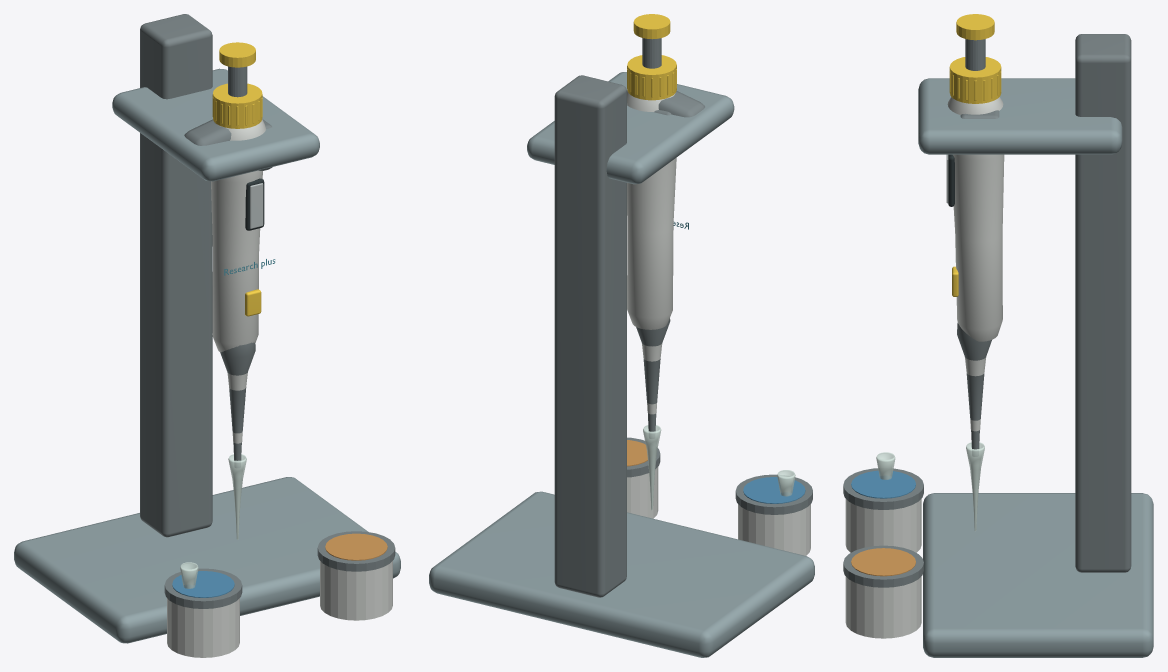
The model's file is research-plus.glb.
3 renders of one model, left to right at view 1: azimuth 30°, elevation 25°; view 2: azimuth 150°, elevation 25°; view 3: azimuth 270°, elevation 25°, orthographic. The views are drawn at different scales.
Parts seen in each view (by area): view 1: Stand_back_column, Stand_base, Stand_hook, Main_handle, Receiver_dry_vessel, Source_dry_vessel, Lower_molded_shaft, Dial_ring, Receiver_dry_floor, Receiver_rim, Source_rim, Source_dry_floor (+5 smaller); view 2: Stand_back_column, Stand_base, Main_handle, Stand_hook, Source_dry_vessel, Dial_ring, Source_rim, Lower_molded_shaft, Receiver_dry_vessel, Source_dry_floor, Plunger_button, Angled_finger_hook (+2 smaller); view 3: Stand_base, Stand_back_column, Stand_hook, Main_handle, Receiver_dry_vessel, Source_dry_vessel, Dial_ring, Lower_molded_shaft, Receiver_dry_floor, Receiver_rim, Source_rim, Source_dry_floor (+3 smaller).
Part boxes in pixels (left/top/right/bottom): Stand_back_column: left=140, top=14, right=212, bottom=537; Stand_base: left=14, top=477, right=400, bottom=643; Stand_hook: left=112, top=68, right=319, bottom=181; Main_handle: left=211, top=119, right=265, bottom=352; Receiver_dry_vessel: left=320, top=561, right=392, bottom=620; Source_dry_vessel: left=167, top=598, right=239, bottom=657; Lower_molded_shaft: left=220, top=342, right=255, bottom=467; Dial_ring: left=213, top=83, right=262, bottom=128; Receiver_dry_floor: left=325, top=533, right=387, bottom=560; Receiver_rim: left=317, top=531, right=395, bottom=571; Source_rim: left=164, top=568, right=242, bottom=608; Source_dry_floor: left=172, top=571, right=234, bottom=597; Stand_back_column: left=554, top=75, right=626, bottom=597; Stand_base: left=429, top=491, right=814, bottom=657; Main_handle: left=627, top=91, right=676, bottom=329; Stand_hook: left=527, top=72, right=734, bottom=184; Source_dry_vessel: left=738, top=504, right=810, bottom=555; Dial_ring: left=627, top=55, right=676, bottom=100; Source_rim: left=735, top=474, right=812, bottom=514; Lower_molded_shaft: left=636, top=318, right=670, bottom=438; Receiver_dry_vessel: left=627, top=467, right=658, bottom=518; Source_dry_floor: left=743, top=477, right=805, bottom=503; Plunger_button: left=633, top=14, right=670, bottom=39; Angled_finger_hook: left=658, top=91, right=704, bottom=117; Stand_base: left=923, top=493, right=1153, bottom=657; Stand_back_column: left=1075, top=34, right=1131, bottom=572; Stand_hook: left=918, top=78, right=1122, bottom=154; Main_handle: left=947, top=97, right=1004, bottom=341; Receiver_dry_vessel: left=845, top=576, right=921, bottom=638; Source_dry_vessel: left=845, top=499, right=921, bottom=552; Dial_ring: left=949, top=57, right=1001, bottom=103; Lower_molded_shaft: left=957, top=322, right=991, bottom=456; Receiver_dry_floor: left=851, top=548, right=915, bottom=576; Receiver_rim: left=843, top=545, right=923, bottom=587; Source_rim: left=843, top=468, right=923, bottom=509; Source_dry_floor: left=851, top=470, right=915, bottom=498.
Size of the model in its own units: 0.152 by 0.2795 by 0.1385.
